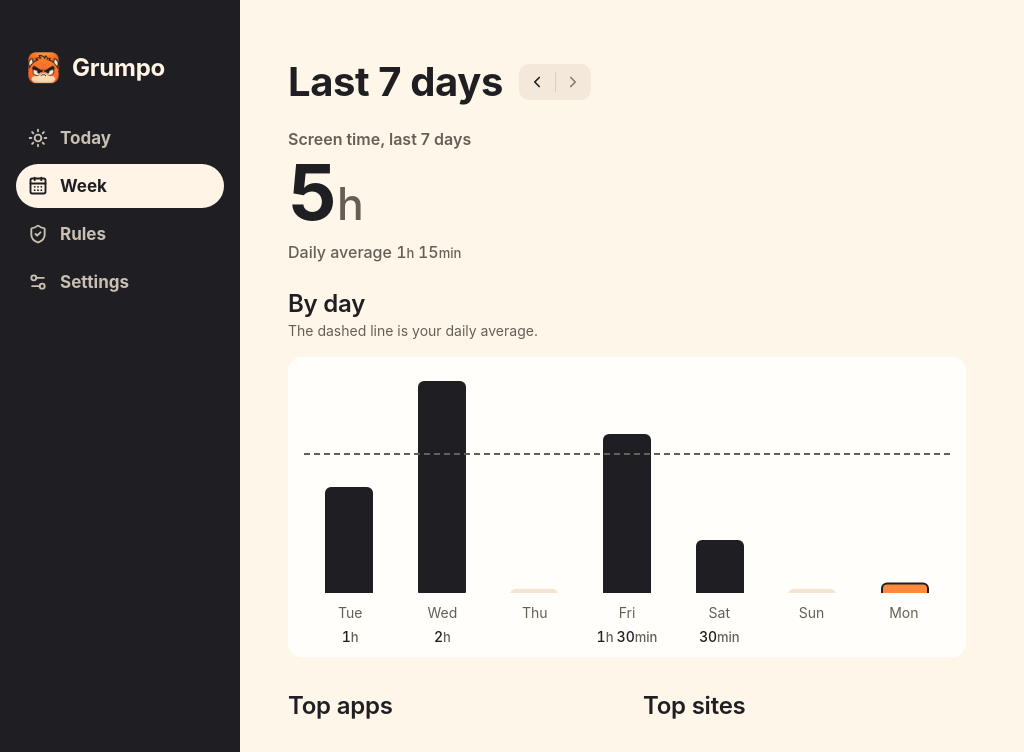
Test: WeekScreen › returns with the shortcut and the reset button
The image size is (1024, 752).
Expected: the text "Screen time, last 7 days" is shown, [288, 129, 471, 149]
Press [
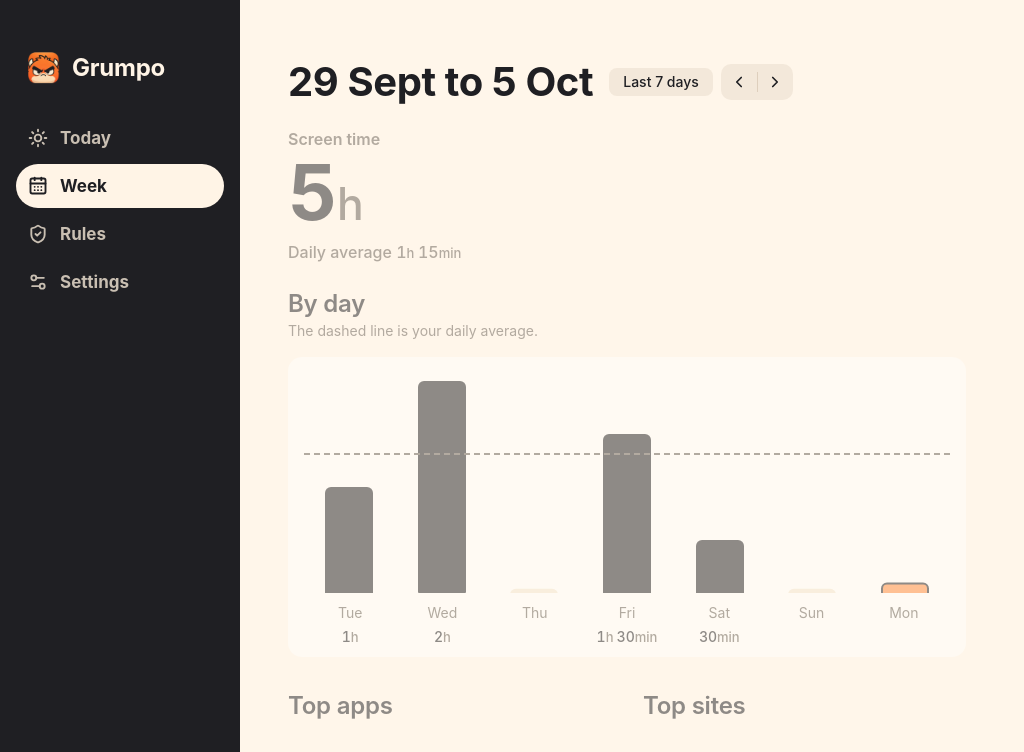
Press ]
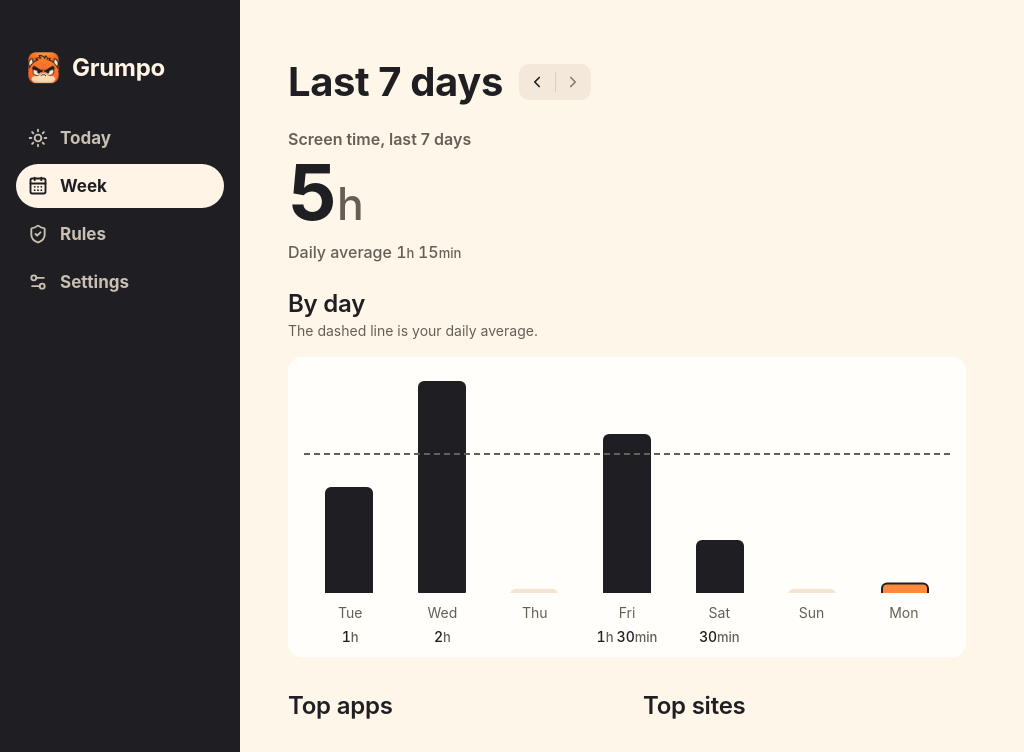
Expected: the heading "Last 7 days" is shown, [288, 60, 503, 104]
Press [
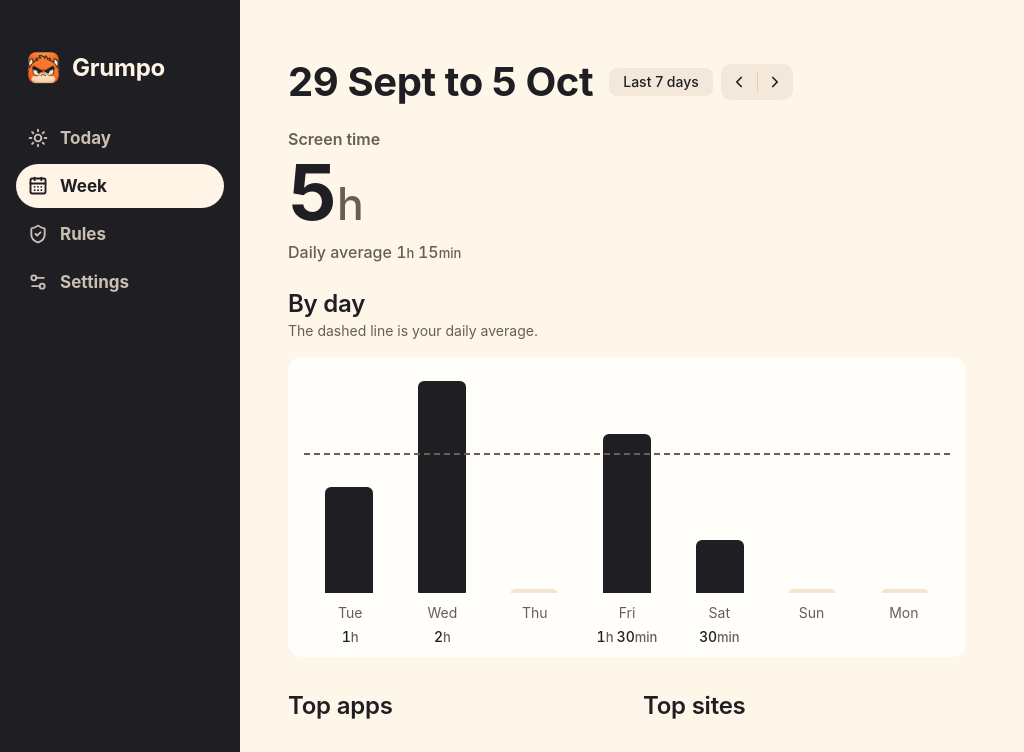
Click the button "Last 7 days": (661, 82) [609, 68, 713, 96]
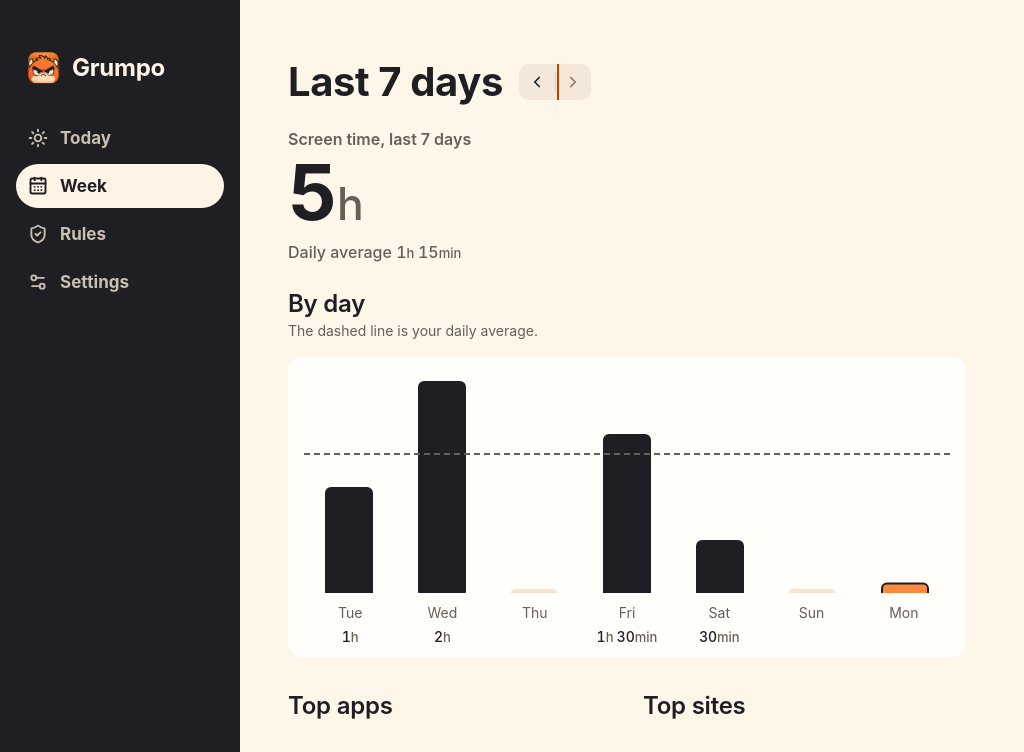
Expected: the heading "Last 7 days" is shown, [288, 60, 503, 104]
